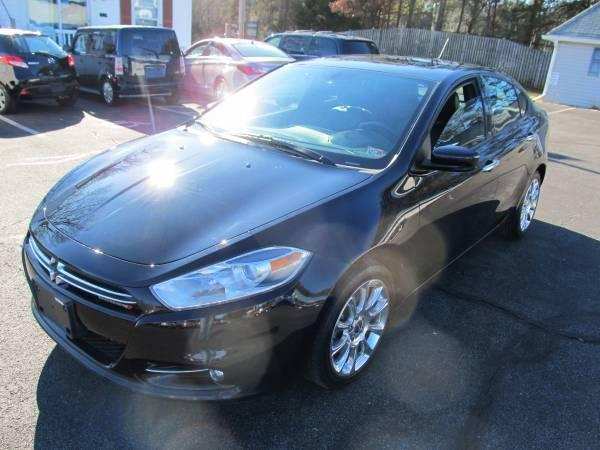Front_Bumper: (109, 290, 326, 399)
Front_Fender: (220, 165, 422, 301)
Front_Left_Door: (417, 139, 502, 298)
Front_Left_Window: (412, 77, 489, 175)
Front_Windshield: (196, 66, 429, 177)
Grille: (22, 234, 169, 367)
Hood: (31, 126, 371, 282)
Left_Headlight: (153, 245, 316, 309)
Rear_Left_Door: (491, 113, 552, 236)
Rear_Left_Window: (480, 78, 530, 142)
Roof: (312, 59, 537, 174)
Wheel: (313, 265, 399, 385), (519, 177, 541, 232)
